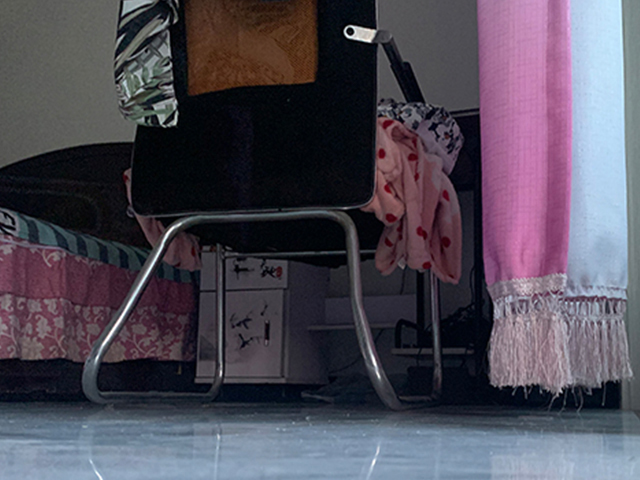bed: (1, 139, 195, 394)
cabinet: (197, 243, 327, 400)
curtain: (475, 1, 633, 398)
stool: (80, 1, 445, 411)
